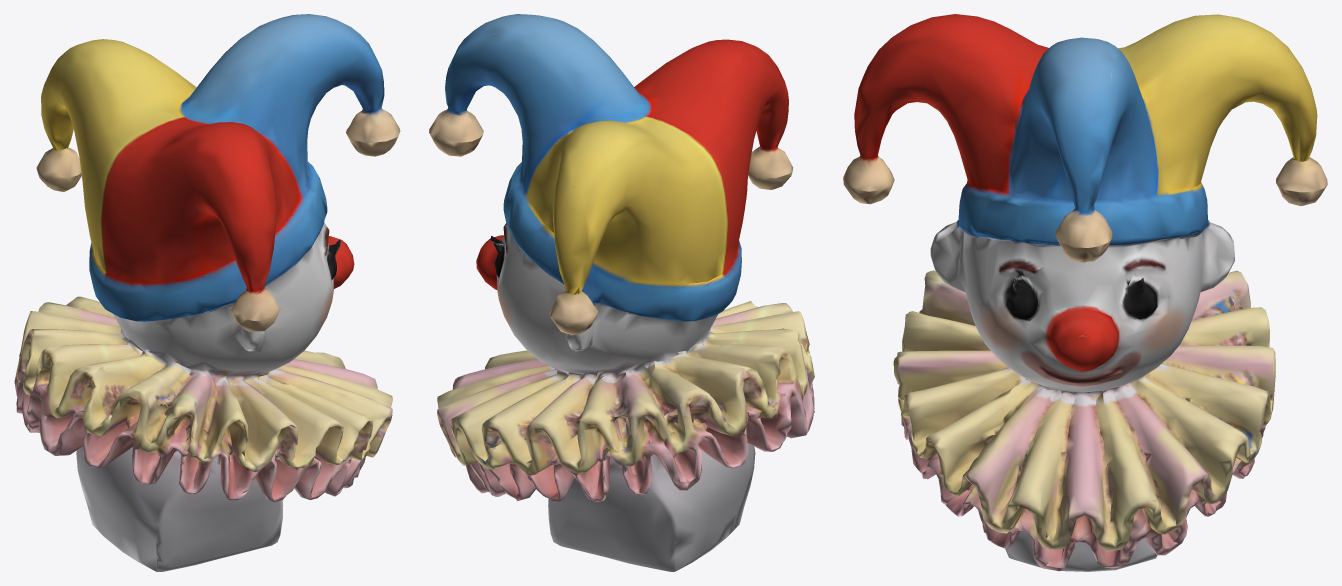
3 views of the same model, side by side, from view 1: azimuth 30°, elevation 25°; view 2: azimuth 150°, elevation 25°; view 3: azimuth 270°, elevation 25° (orthographic). The views are drawn at different scales.
Parts seen in each view (by area): view 1: repaired; view 2: repaired; view 3: repaired.
Part boxes in pixels (x1,y1,x2,y2): repaired: [14, 14, 400, 571]; repaired: [429, 14, 814, 571]; repaired: [843, 14, 1327, 571].
Bounding box in the file's own units: 0.7783 × 0.9999 × 0.8073.
Materials: 1 (1 with a texture image).
